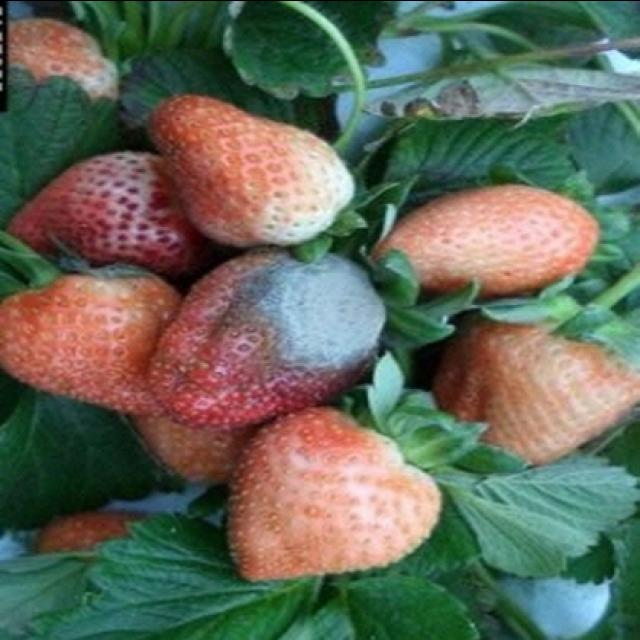Gray Mold: (151, 244, 387, 431)
